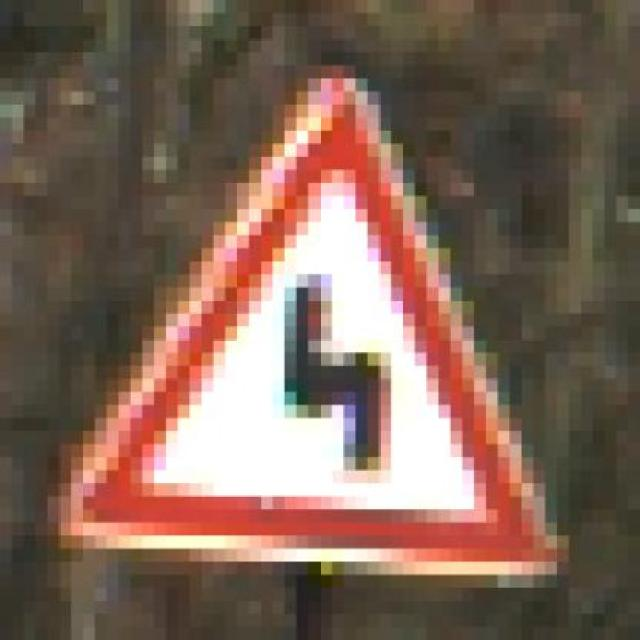Left Zig Zag Traffic: (35, 52, 592, 588)
